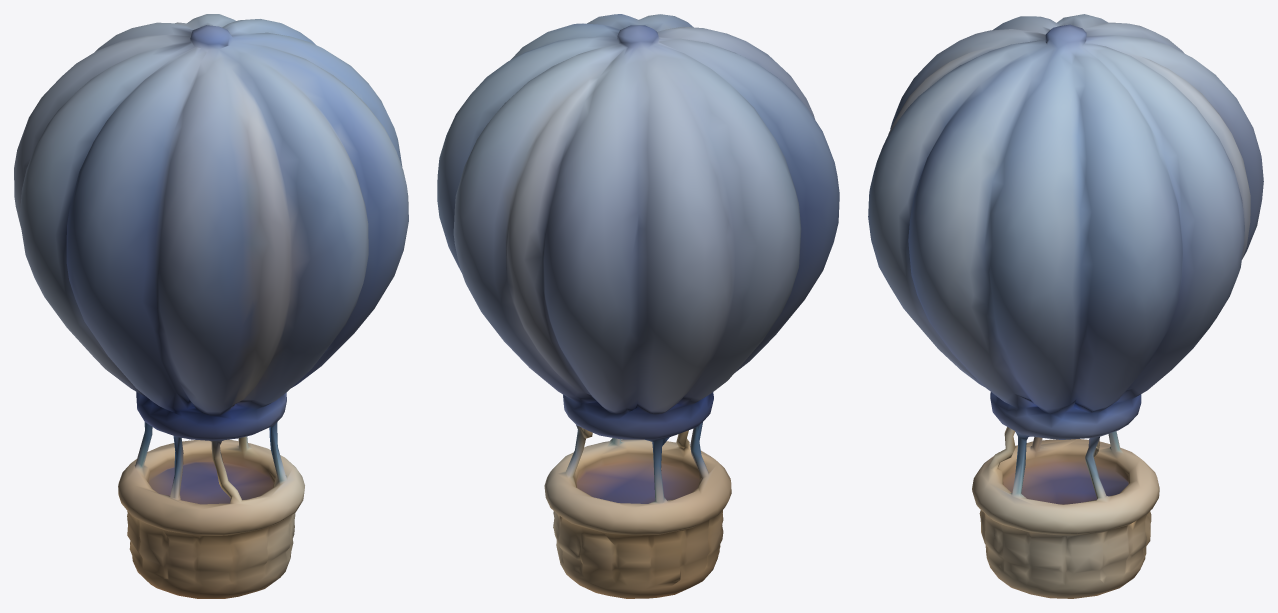
The model's file is BalloonShield.fbx.
The picture shows the model from 3 angles, left to right: view 1: azimuth 30°, elevation 25°; view 2: azimuth 150°, elevation 25°; view 3: azimuth 270°, elevation 25°; orthographic projection.
Parts seen in each view (by area): view 1: Body; view 2: Body; view 3: Body.
Boxes of the visible parts, left/top/right/bottom form: Body: left=14, top=14, right=408, bottom=598; Body: left=437, top=14, right=839, bottom=598; Body: left=868, top=14, right=1263, bottom=598.
Size of the model in its own units: 0.6355 by 0.977 by 0.6439.
